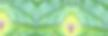Tomato Early blight leaf: (34, 0, 74, 36)
